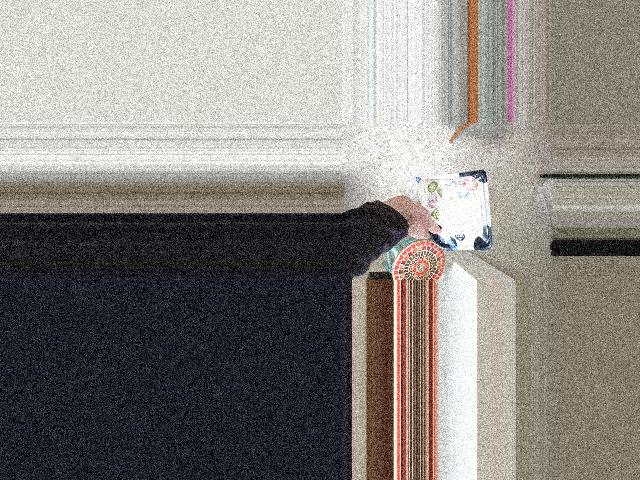cheese: (389, 172, 476, 251)
